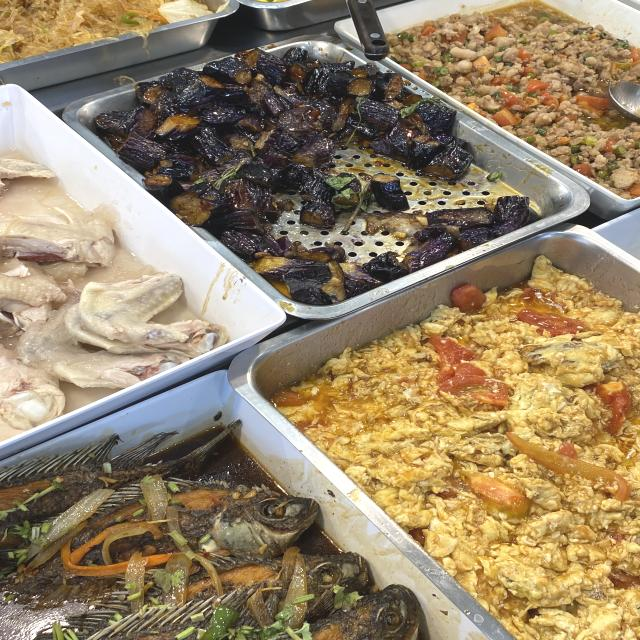Scramble Egg with Tomatoes: (403, 327, 639, 519)
eggplant: (166, 81, 318, 170)
